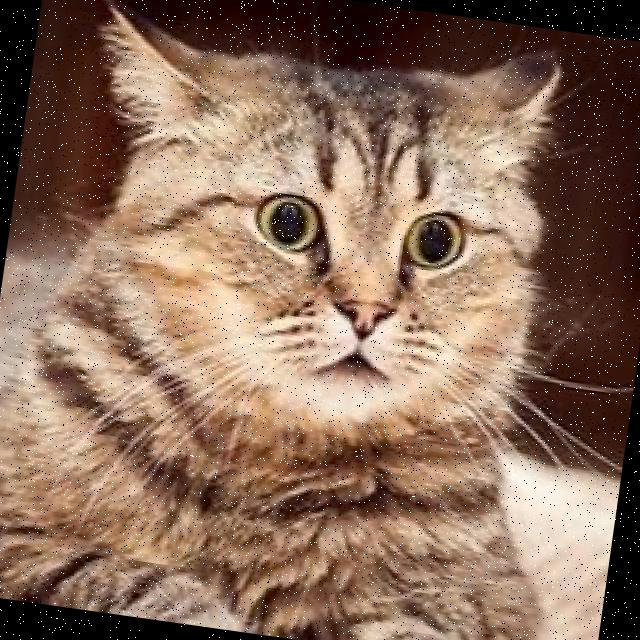Surprised: (178, 138, 496, 430)
